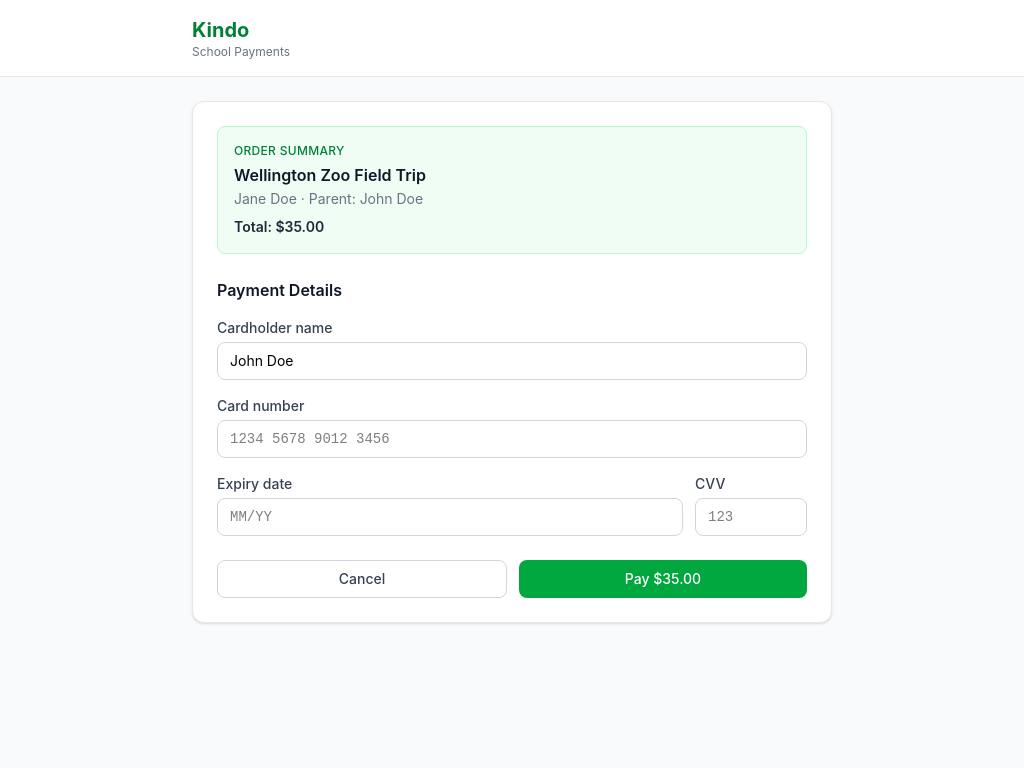
Test case: PaymentForm › formats the expiry date with a slash after MM
The image size is (1024, 768).
Type "1230" into the field labelled "Expiry date" at (450, 517), box [217, 498, 683, 536]
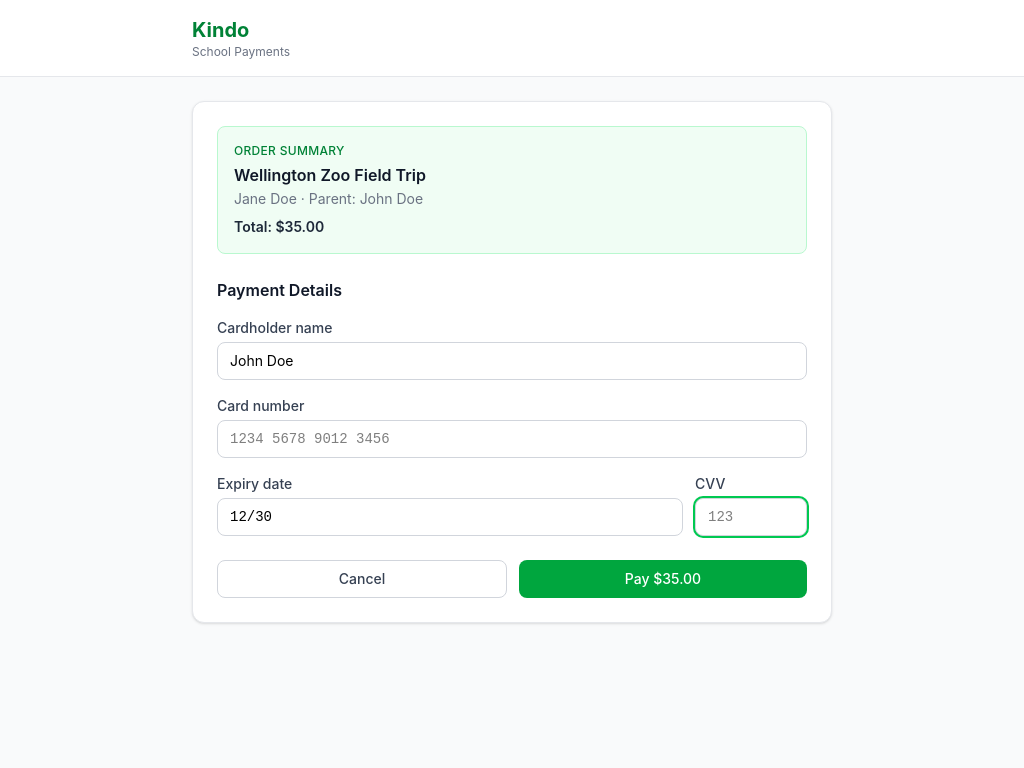
Expected: the field labelled "Expiry date" holds "12/30", [217, 498, 683, 536]
